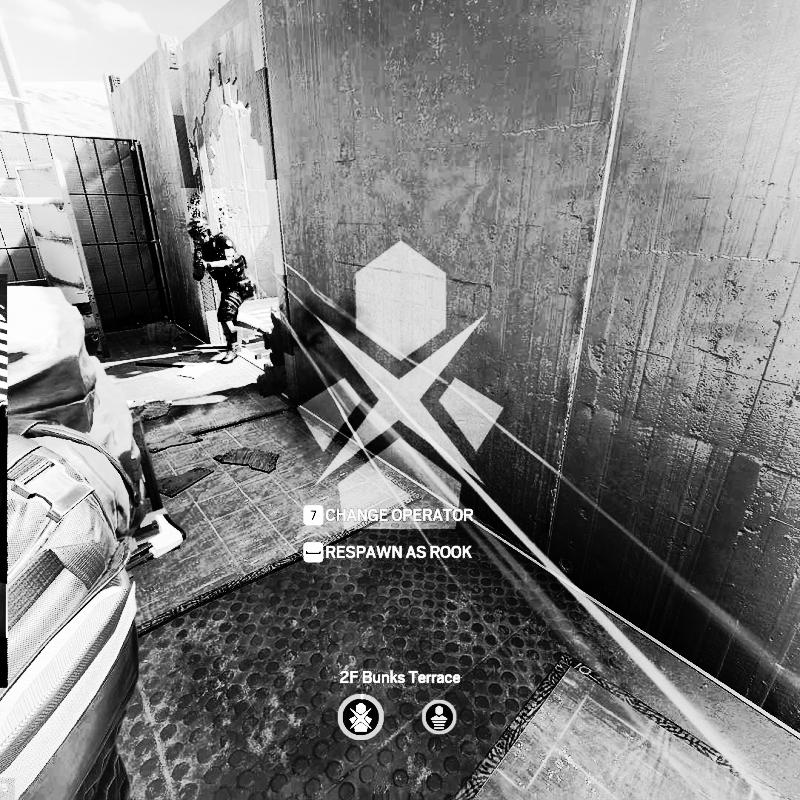Character: (0, 281, 172, 800), (184, 215, 259, 366)
Head: (187, 217, 212, 246)
